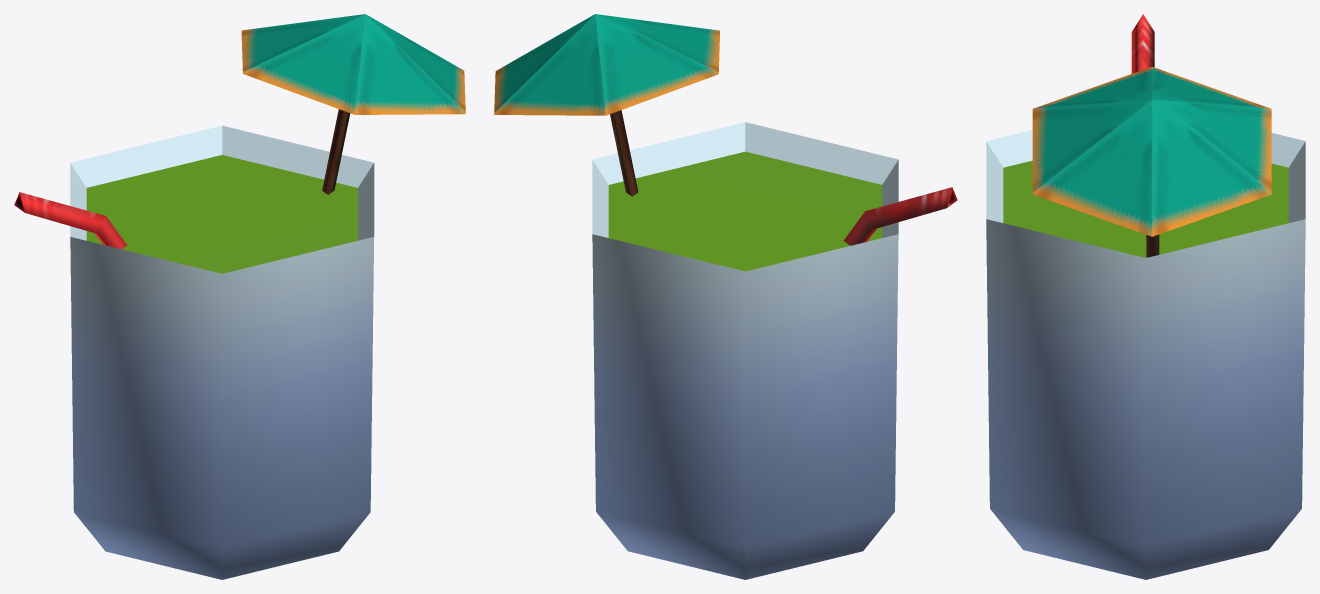
File: Cocktail_06.FBX
The picture shows the model from 3 angles, left to right: view 1: azimuth 30°, elevation 25°; view 2: azimuth 150°, elevation 25°; view 3: azimuth 270°, elevation 25°; orthographic projection. The views are drawn at different scales.
Parts seen in each view (by area): view 1: Cocktail_06; view 2: Cocktail_06; view 3: Cocktail_06.
Boxes of the visible parts, bbox=[...] form: Cocktail_06: bbox=[14, 14, 465, 579]; Cocktail_06: bbox=[494, 14, 957, 579]; Cocktail_06: bbox=[986, 14, 1305, 579].
Bounding box in the file's own units: 0.3164 × 0.1854 × 0.3173.
